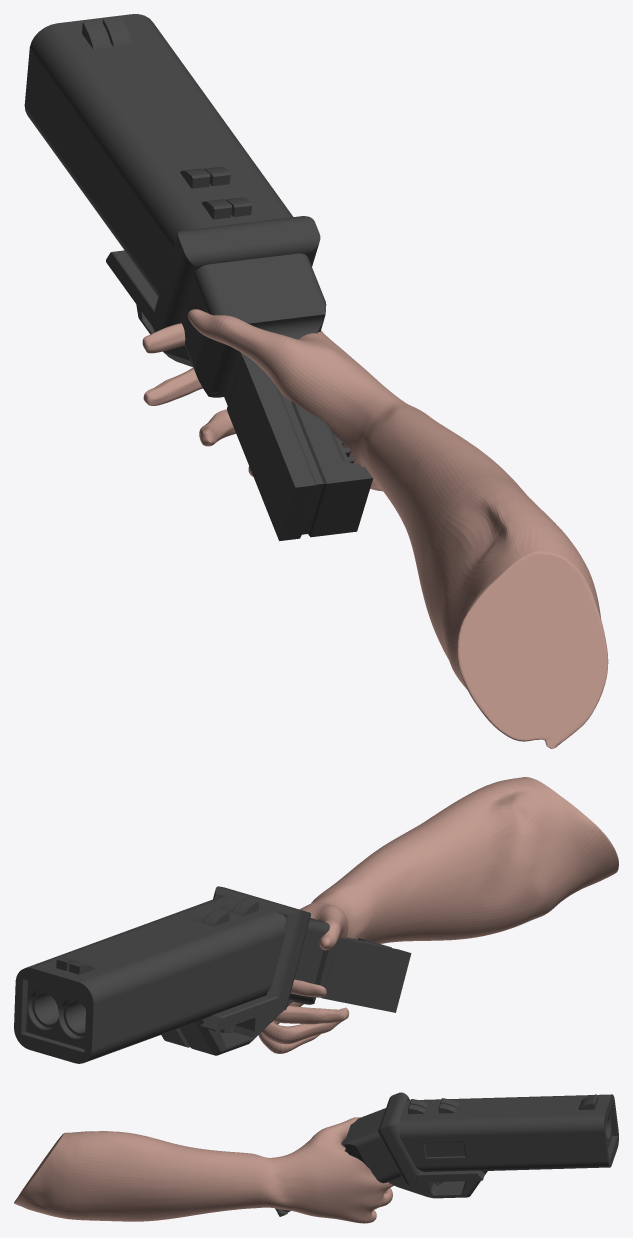
The model's file is Рука со вторым пистолетом.fbx.
3 renders of one model, top to bottom at view 1: azimuth 30°, elevation 25°; view 2: azimuth 150°, elevation 25°; view 3: azimuth 270°, elevation 25°, orthographic. The views are drawn at different scales.
Parts seen in each view (by area): view 1: Gun, hand.001; view 2: Gun, hand.001; view 3: hand.001, Gun.
Part boxes in pixels (x1,y1,x2,y2): Gun: (24, 14, 372, 540); hand.001: (142, 309, 608, 748); Gun: (14, 886, 411, 1063); hand.001: (258, 777, 618, 1053); hand.001: (14, 1117, 393, 1223); Gun: (275, 1092, 618, 1216).
Size of the model in its own units: 242 by 262 by 1005.
